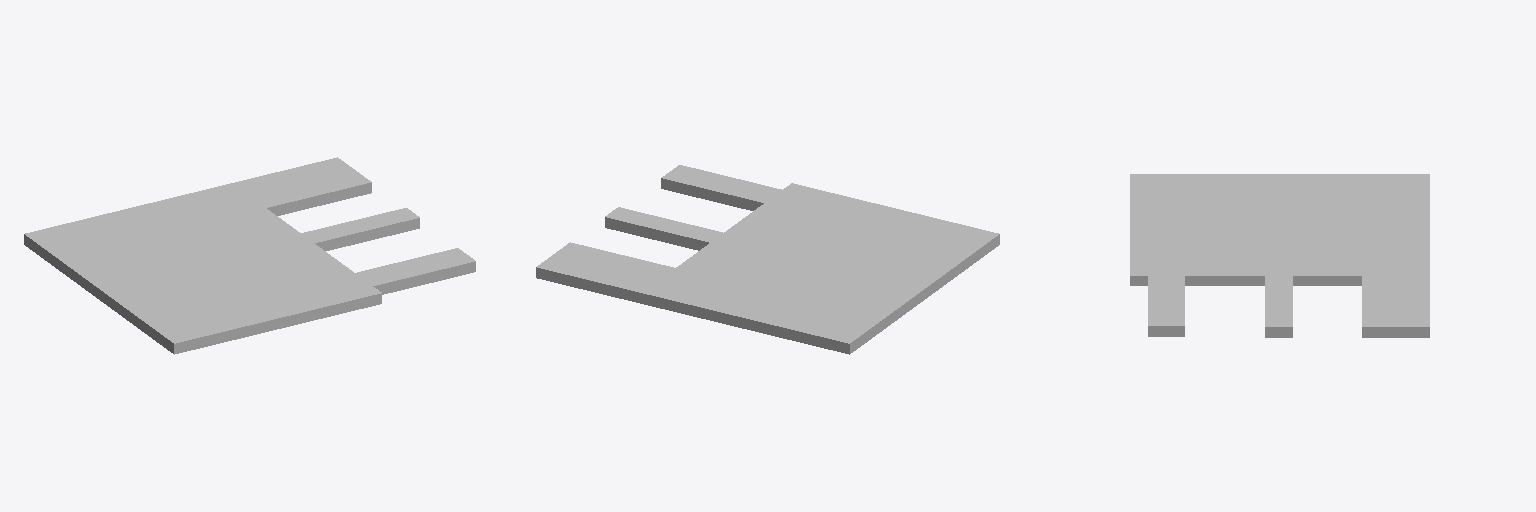
Rendered from Floor TEsting 1.obj.
The picture shows the model from 3 angles: view 1: azimuth 30°, elevation 25°; view 2: azimuth 150°, elevation 25°; view 3: azimuth 270°, elevation 25°; orthographic projection.
Parts seen in each view (by area): view 1: polySurface1345 polySurface177; view 2: polySurface1345 polySurface177; view 3: polySurface1345 polySurface177.
Part boxes in pixels (left/top/right/bottom): polySurface1345 polySurface177: left=24, top=157, right=475, bottom=354; polySurface1345 polySurface177: left=536, top=165, right=999, bottom=354; polySurface1345 polySurface177: left=1130, top=174, right=1429, bottom=337.
Bounding box in the file's own units: 1698 × 55.95 × 1408.